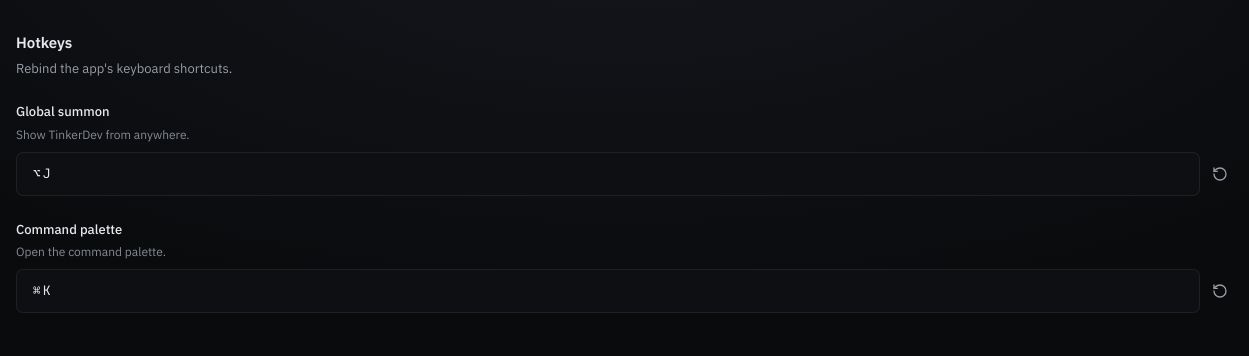
Test: HotkeysSettings — reset-path collision guard (T-24-07) › a summon OS-register reject is announced and persists nothing
Click the button named "Reset Global summon to default".
click(1220, 174)  # box [1208,162,1232,186]
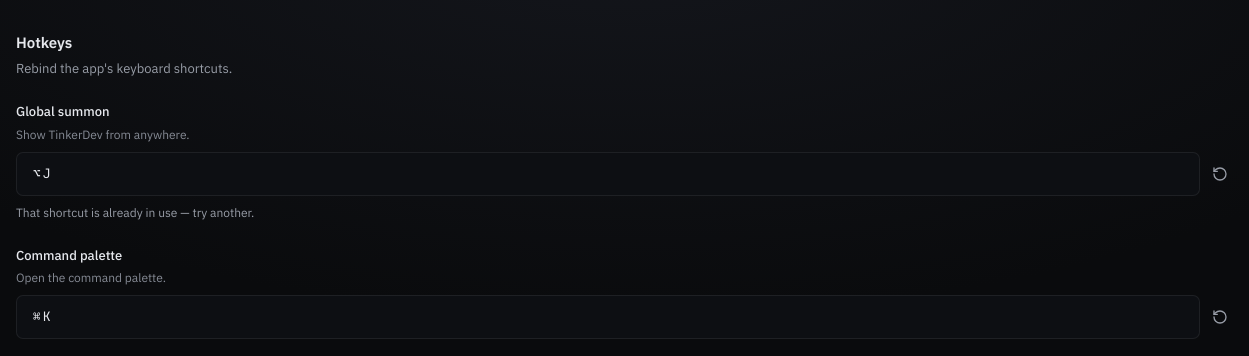
Result: the text "That shortcut is already in use — try another." is shown at [16,204,254,220]
